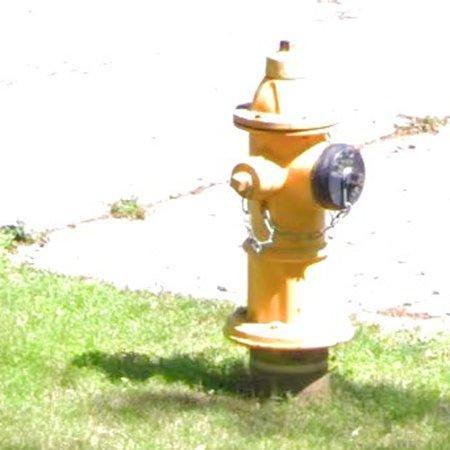a fire hydrant: (231, 41, 366, 324)
